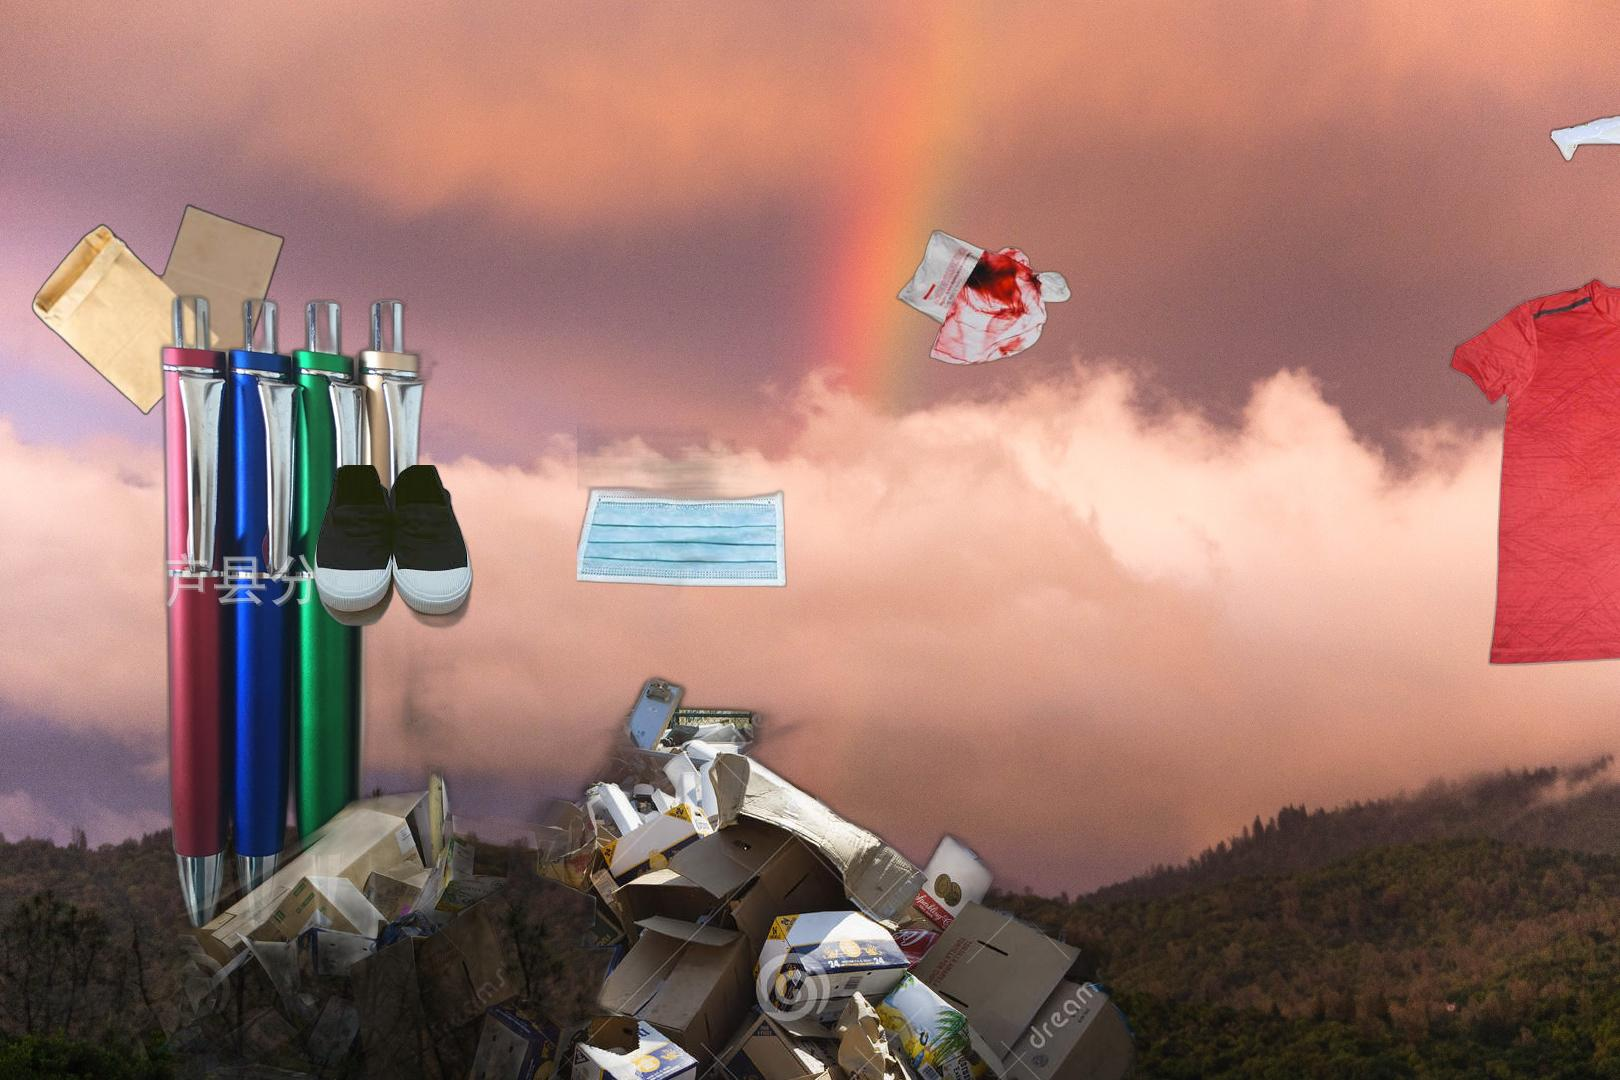clothes: (1446, 272, 1620, 670)
paper-bag: (29, 202, 287, 439)
penholder: (143, 284, 786, 947)
plastic-bag: (893, 229, 1074, 368)
plastic-bottles: (1546, 107, 1620, 168)
shoes: (310, 465, 475, 633)
trash: (577, 387, 791, 589)
trashbox-cardboard: (43, 583, 1343, 1080)
